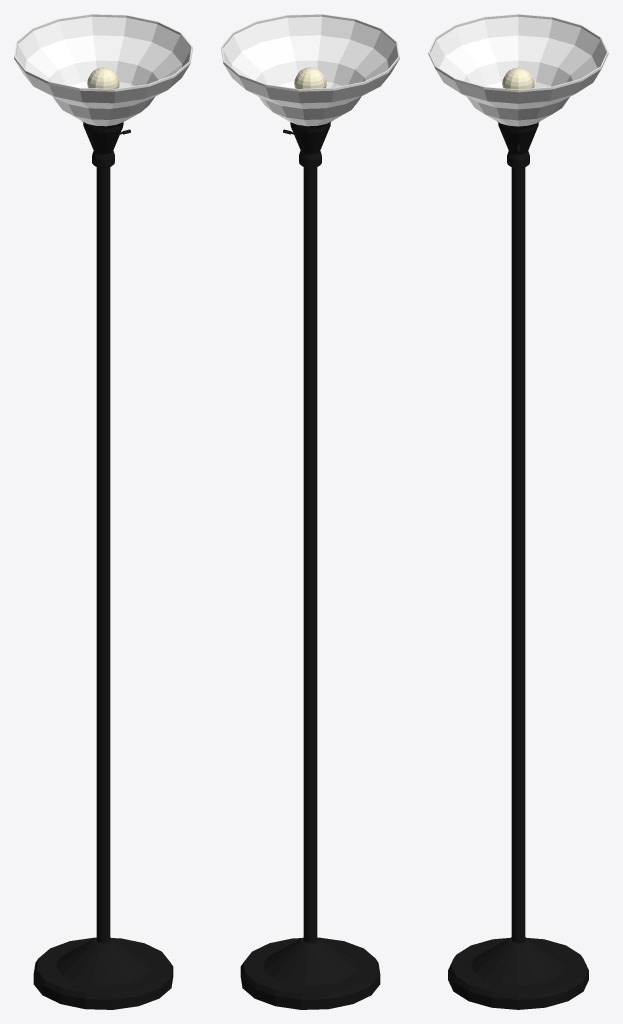
The model's file is Floor-Lamp-2.fbx.
3 views of the same model, side by side, from view 1: azimuth 30°, elevation 25°; view 2: azimuth 150°, elevation 25°; view 3: azimuth 270°, elevation 25° (orthographic).
Visible parts, largest first — view 1: FloorLamp2, FloorLamp2Bulb; view 2: FloorLamp2, FloorLamp2Bulb; view 3: FloorLamp2, FloorLamp2Bulb.
Boxes of the visible parts, x1,y1,x2,y2 form: FloorLamp2: [14, 14, 192, 1009]; FloorLamp2Bulb: [87, 67, 119, 88]; FloorLamp2: [221, 14, 399, 1009]; FloorLamp2Bulb: [294, 67, 326, 88]; FloorLamp2: [428, 14, 608, 1009]; FloorLamp2Bulb: [502, 67, 534, 89].
Bounding box in the file's own units: 0.3201 × 1.82 × 0.3201.
